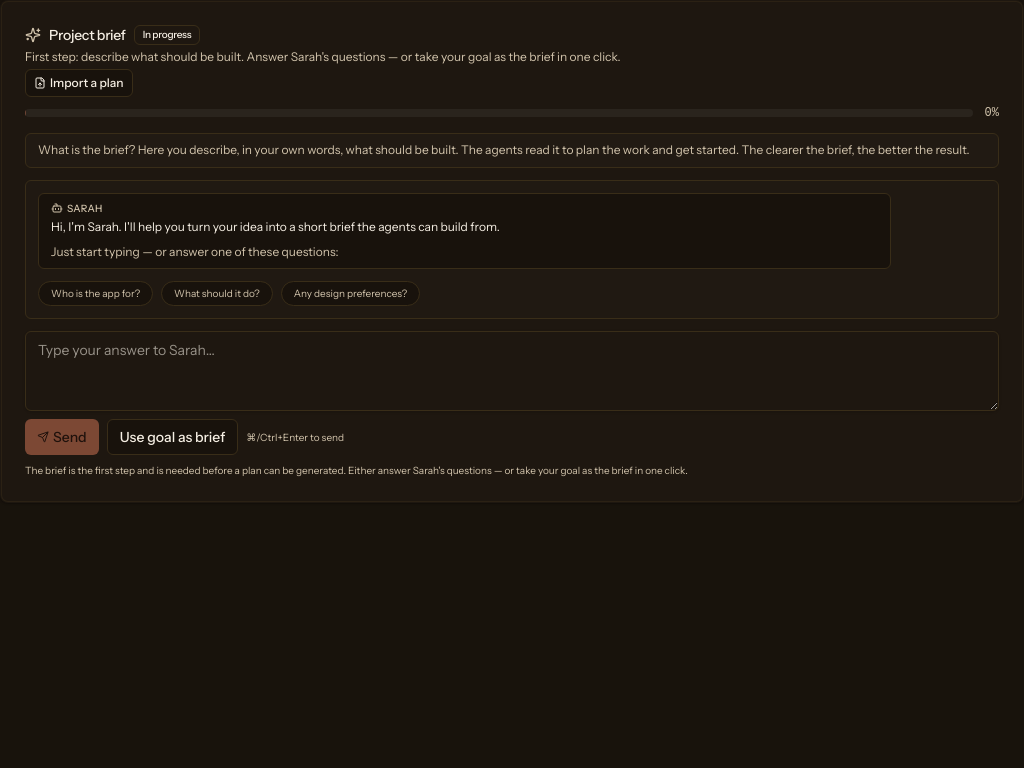
Test: BriefCard › clicking finalize flips to ready state + collapses chat
This screenshot has width=1024, height=768.
In the text box with test id "brief-message-input": [512, 371] box [25,331,999,411], type "web"
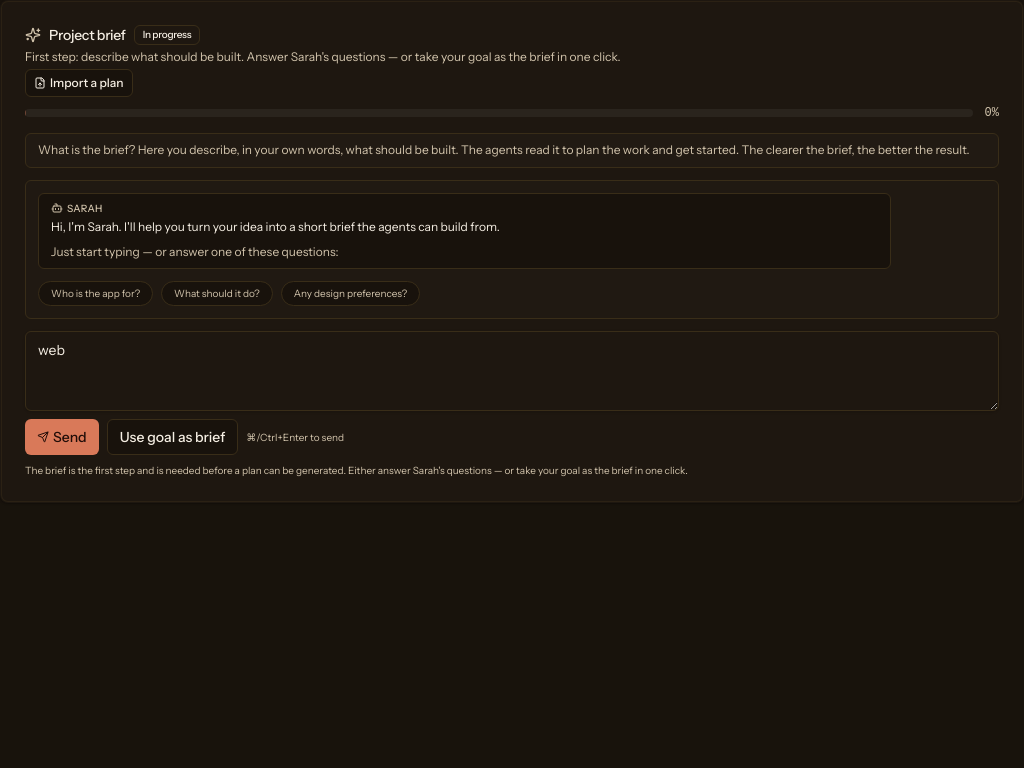
Click the button with test id "brief-send-button": [62, 437] box [25,419,99,455]
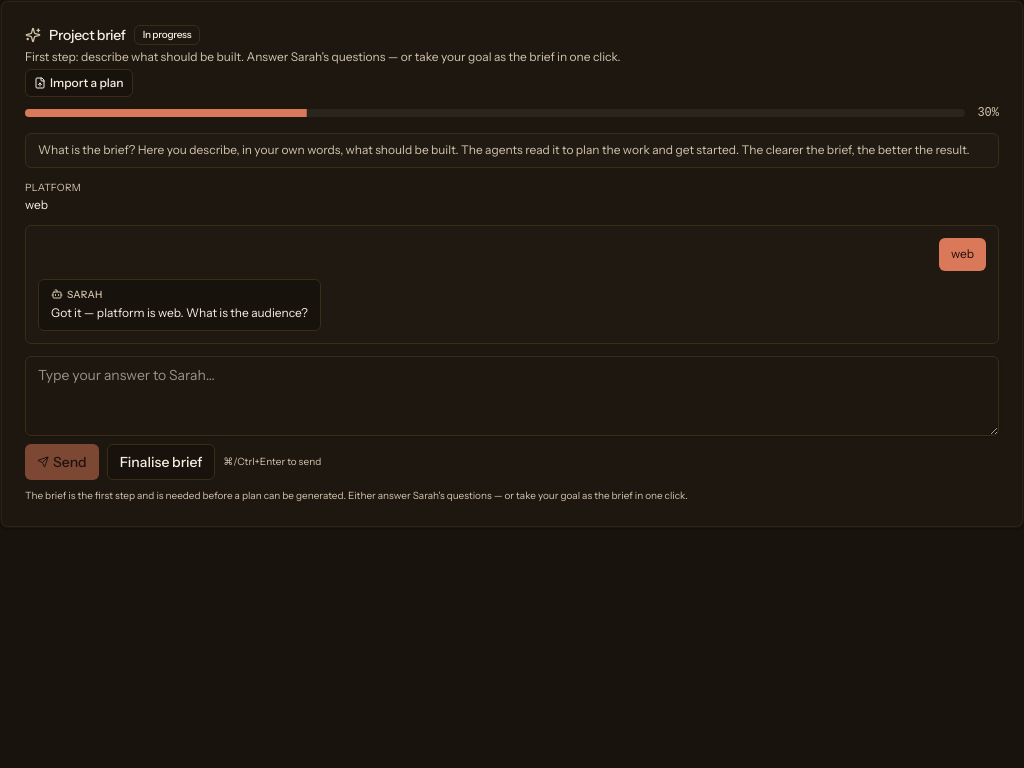
Now the element with test id "brief-bubble-user" is shown, box [939,238,986,271]
Click the button with test id "brief-finalize-button": [161, 462] box [107,444,215,480]
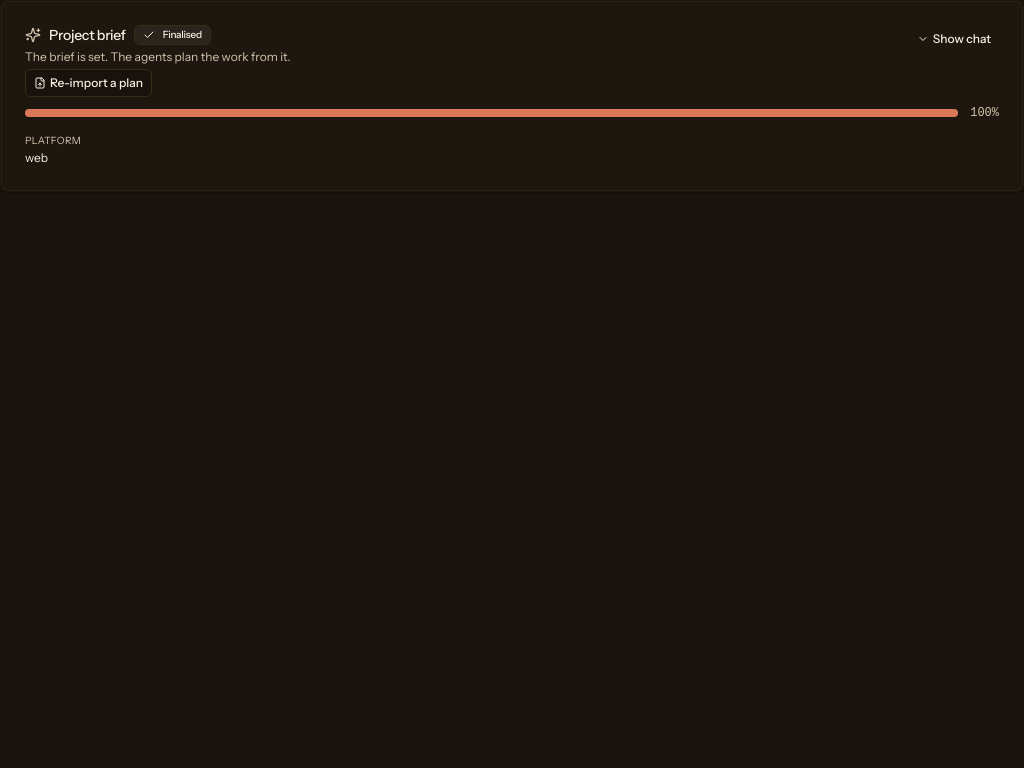
Now the button with test id "brief-toggle-expand" is shown, box [909,25,999,53]
Now the text box with test id "brief-message-input" is gone
